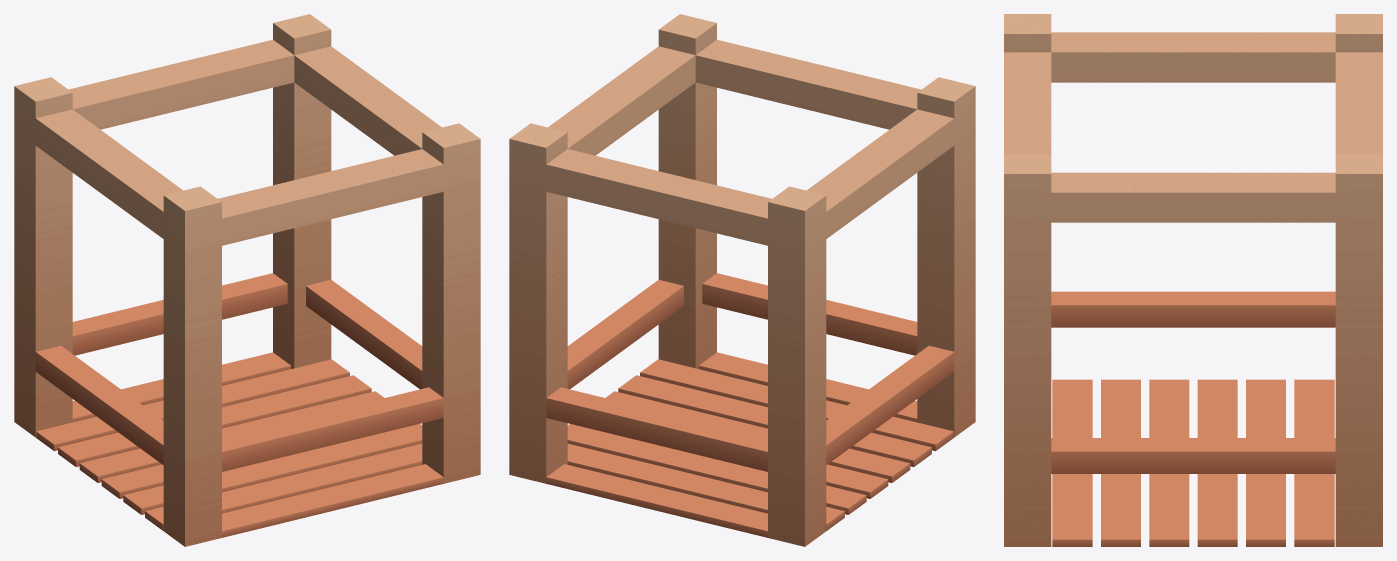
The model's file is tower-square-mid-open.glb.
The picture shows the model from 3 angles, left to right: view 1: azimuth 30°, elevation 25°; view 2: azimuth 150°, elevation 25°; view 3: azimuth 270°, elevation 25°; orthographic projection. The views are drawn at different scales.
Visible parts, largest first — view 1: tower-square-mid-open; view 2: tower-square-mid-open; view 3: tower-square-mid-open.
Part boxes in pixels (left/top/right/bottom): tower-square-mid-open: left=14, top=14, right=480, bottom=546; tower-square-mid-open: left=509, top=14, right=975, bottom=546; tower-square-mid-open: left=1004, top=14, right=1382, bottom=546.
Size of the model in its own units: 0.93 by 1.01 by 0.93.
Materials: 1 (1 with a texture image).
